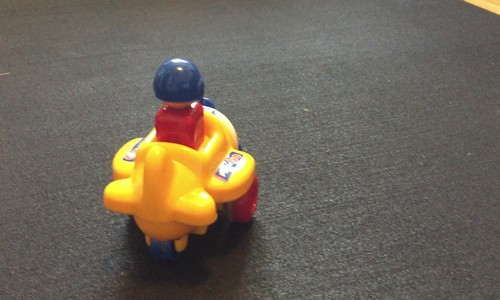toy: (100, 57, 262, 260)
